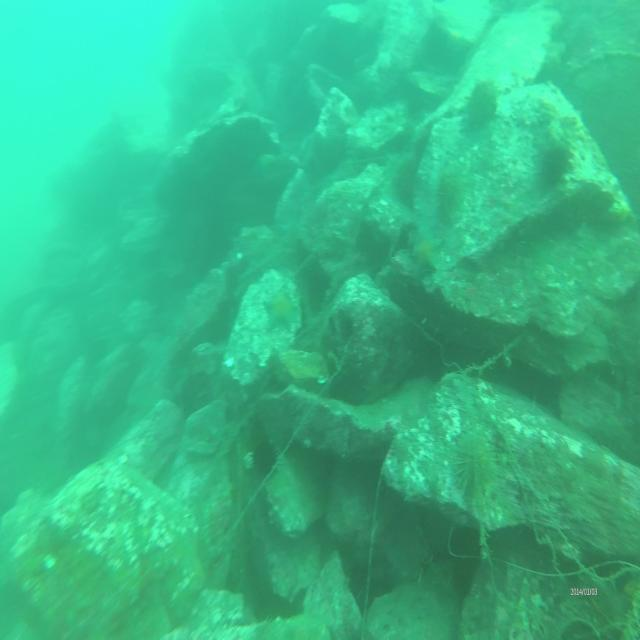echinus: (454, 432, 498, 507), (462, 76, 498, 137), (435, 170, 462, 223), (542, 136, 570, 186), (396, 154, 419, 208)
starfish: (411, 232, 443, 281), (265, 286, 299, 328)
